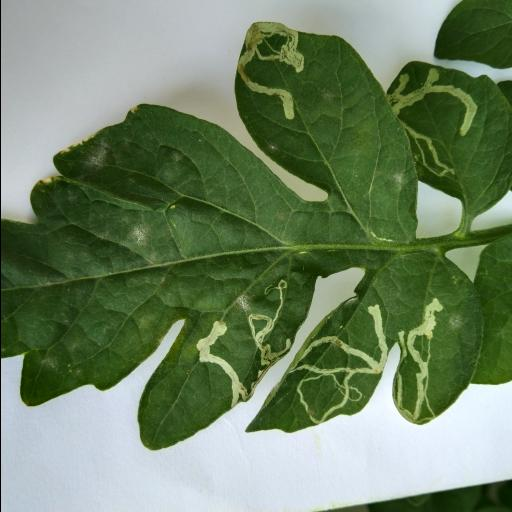disease_tomato: (0, 20, 481, 450), (386, 59, 512, 216)
